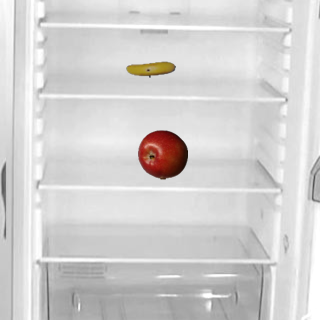Apple Braeburn: (137, 129, 187, 179)
Banana: (125, 44, 175, 94)
